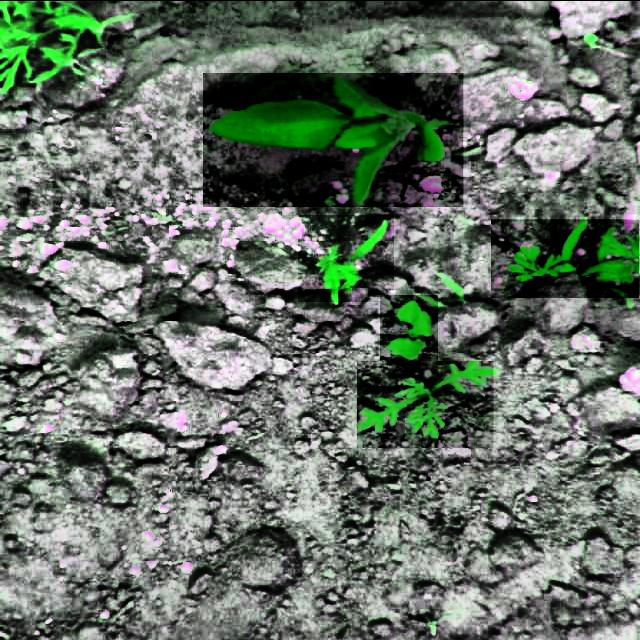Weeds: (204, 72, 466, 206), (380, 294, 438, 360)
undefined: (358, 360, 496, 447), (491, 216, 639, 296), (0, 1, 106, 89), (298, 214, 394, 301)
